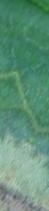Tomato leaf late blight: (0, 3, 49, 208)
